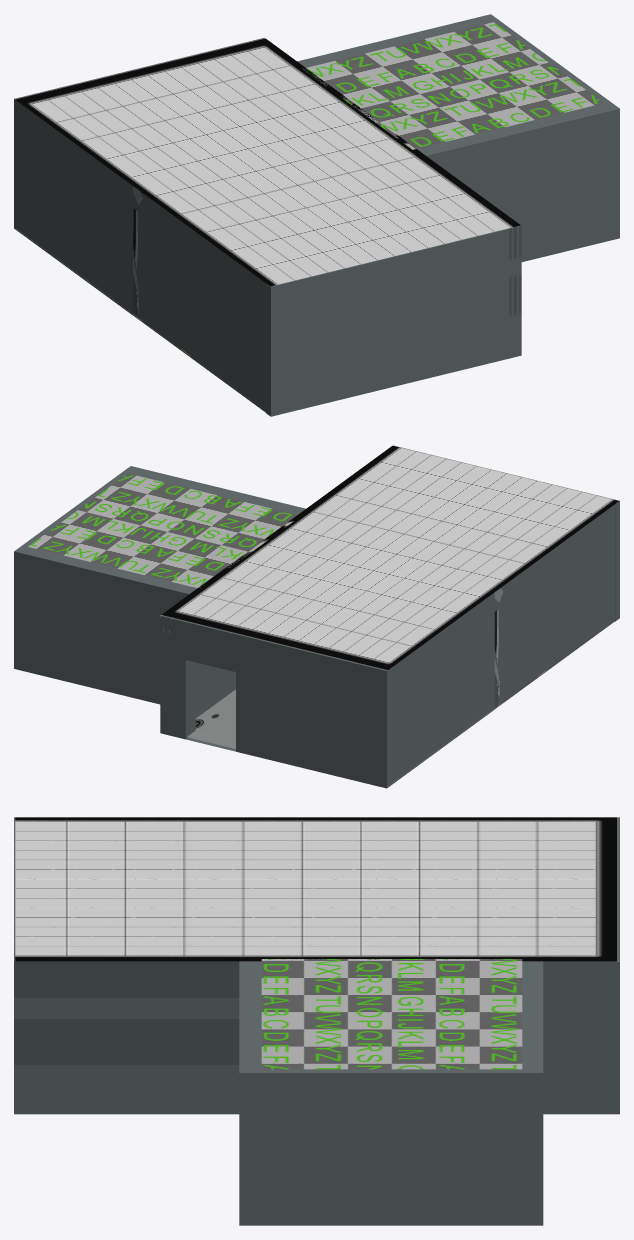
The model's file is Room2Export.fbx.
The picture shows the model from 3 angles, top to bottom: view 1: azimuth 30°, elevation 25°; view 2: azimuth 150°, elevation 25°; view 3: azimuth 270°, elevation 25°; orthographic projection. The views are drawn at different scales.
Visible parts, largest first — view 1: pCube2, pPlane1, pPlane4; view 2: pCube2, pPlane1, pPlane4, pPlane3; view 3: pCube2, pPlane1, pPlane4.
Part boxes in pixels (left/top/right/bottom): pCube2: left=14, top=14, right=619, bottom=416; pPlane1: left=15, top=38, right=520, bottom=286; pPlane4: left=302, top=22, right=603, bottom=149; pCube2: left=14, top=445, right=619, bottom=788; pPlane1: left=161, top=445, right=618, bottom=669; pPlane4: left=28, top=473, right=297, bottom=588; pPlane3: left=187, top=620, right=614, bottom=780; pCube2: left=14, top=817, right=619, bottom=1225; pPlane1: left=15, top=817, right=616, bottom=961; pPlane4: left=261, top=959, right=522, bottom=1069.
Bounding box in the file's own units: 23.96 × 6.68 × 23.99.
5 materials, 5 textured.
